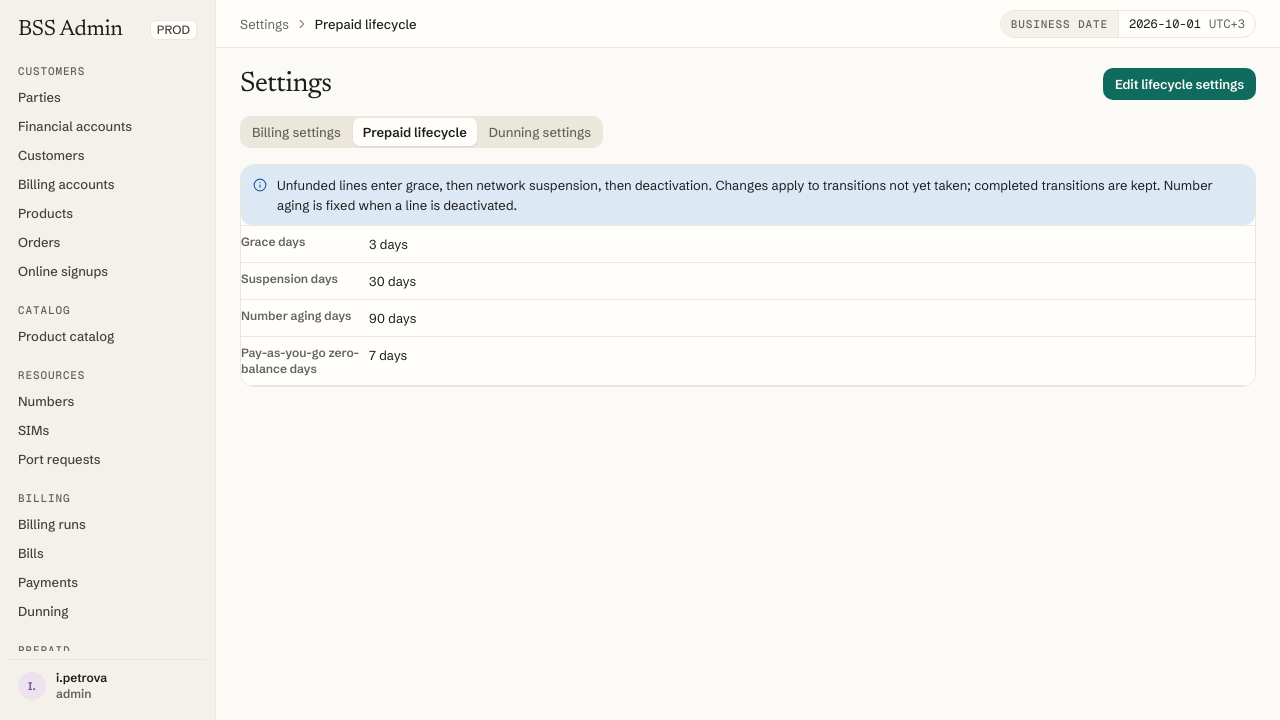
Test: prepaid lifecycle › cancels the edit without a write
Expected: the heading "Settings" is shown, [240, 68, 332, 100]
Expected: the text "90 days" is shown, [369, 300, 1255, 337]
Click the button "Edit lifecycle settings": [1180, 84] box [1103, 68, 1256, 100]
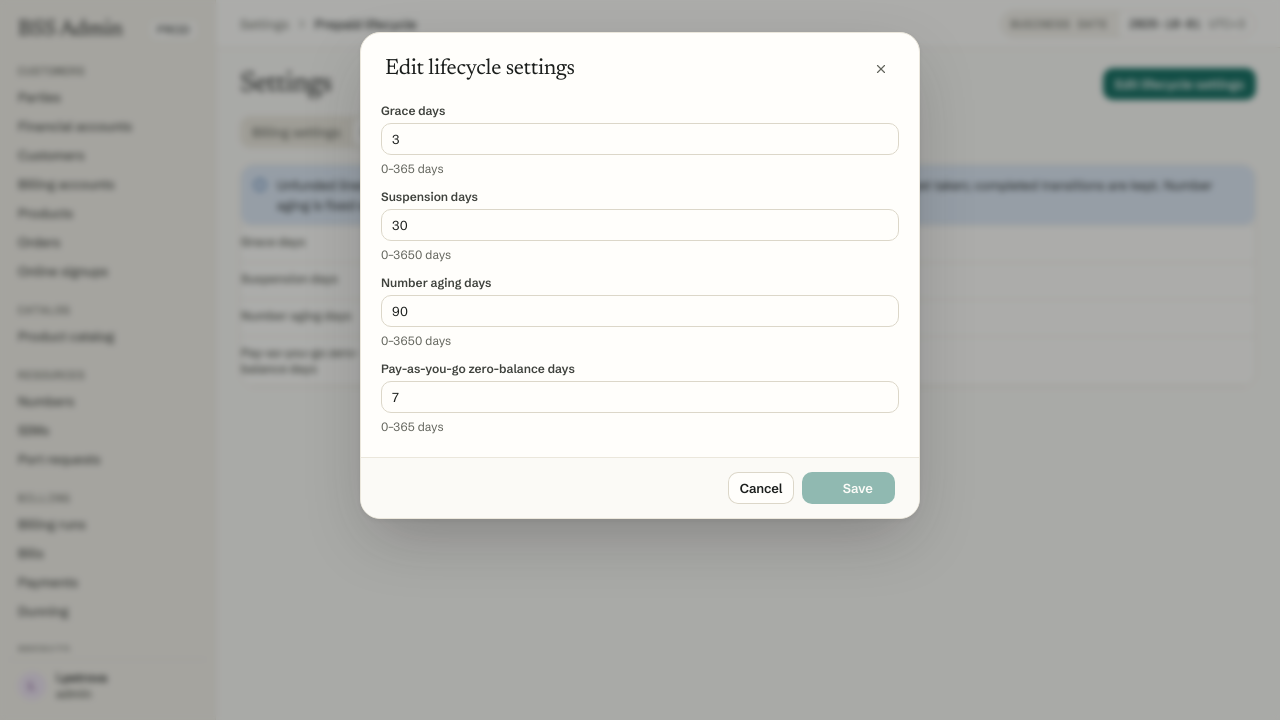
Replace the text in the number field labelled "Grace days" with "5": [640, 139] box [381, 123, 899, 155]
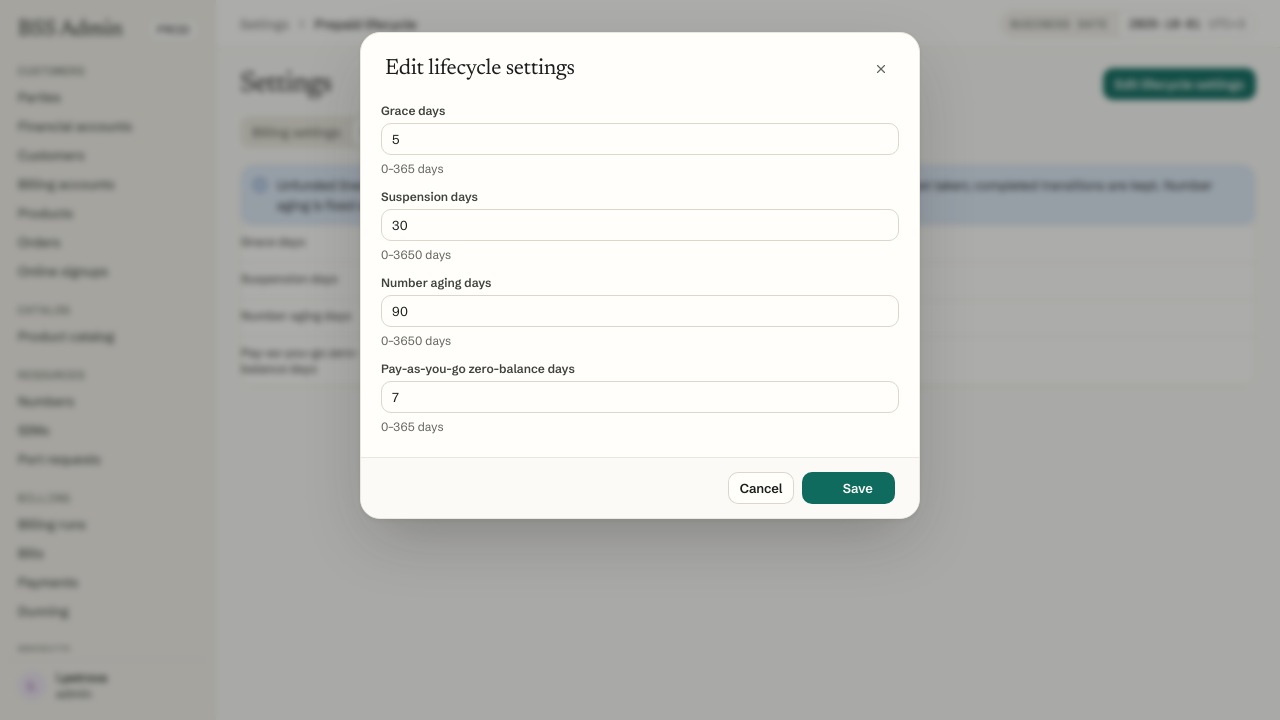
Click the button "Cancel": [761, 488] box [728, 472, 794, 504]
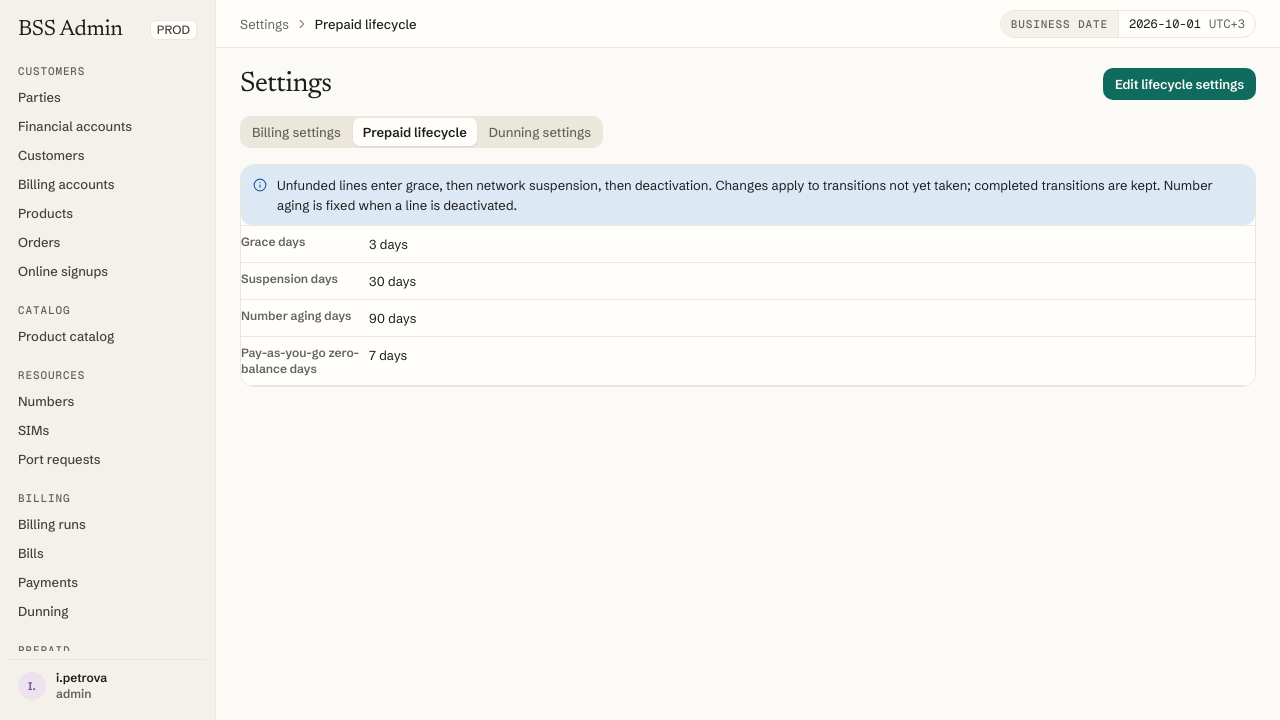
Now the dialog is gone
